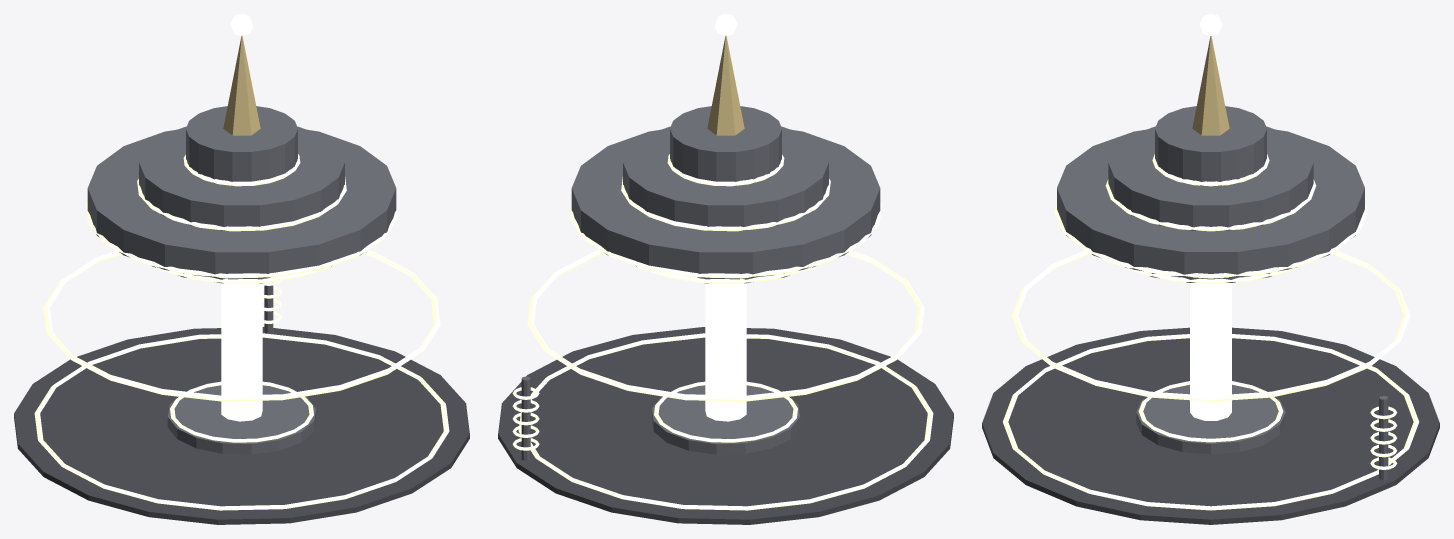
The model's file is zone_low_5_t5.glb.
3 renders of one model, left to right at view 1: azimuth 30°, elevation 25°; view 2: azimuth 150°, elevation 25°; view 3: azimuth 270°, elevation 25°, orthographic.
Parts seen in each view (by area): view 1: zone_low_5_t5, detail; view 2: zone_low_5_t5, detail; view 3: zone_low_5_t5, detail.
Boxes of the visible parts, left/top/right/bottom form: zone_low_5_t5: left=14, top=36, right=469, bottom=524; detail: left=34, top=14, right=449, bottom=510; zone_low_5_t5: left=498, top=36, right=953, bottom=524; detail: left=512, top=14, right=933, bottom=510; zone_low_5_t5: left=982, top=36, right=1439, bottom=524; detail: left=1003, top=14, right=1418, bottom=510.
Size of the model in its own units: 19.6 by 19.56 by 19.6.
